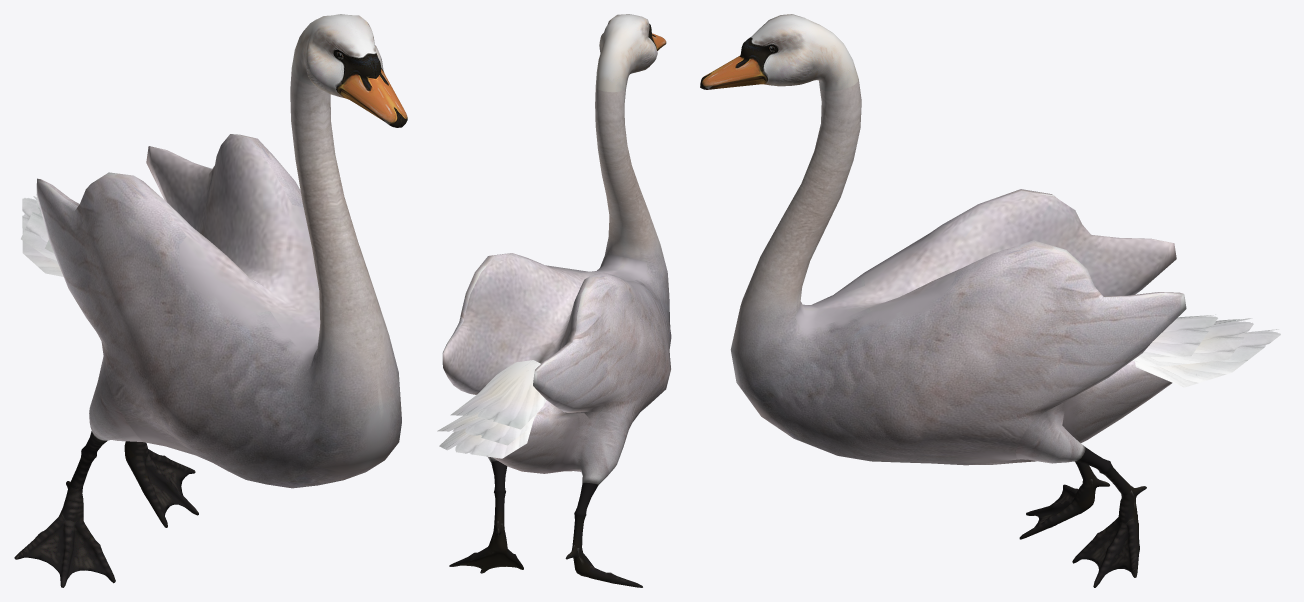
3 views of the same model, side by side, from view 1: azimuth 30°, elevation 25°; view 2: azimuth 150°, elevation 25°; view 3: azimuth 270°, elevation 25° (orthographic). The views are drawn at different scales.
Parts seen in each view (by area): view 1: body, weiyu; view 2: body, weiyu; view 3: body, weiyu.
Boxes of the visible parts, <box> form: body: <box>14,14,407,587</box>; weiyu: <box>21,196,79,276</box>; body: <box>442,14,671,587</box>; weiyu: <box>437,360,546,458</box>; body: <box>700,14,1186,587</box>; weiyu: <box>1133,314,1280,387</box>.
Bounding box in the file's own units: 0.6013 × 1.35 × 1.29.
2 materials, 2 textured.
